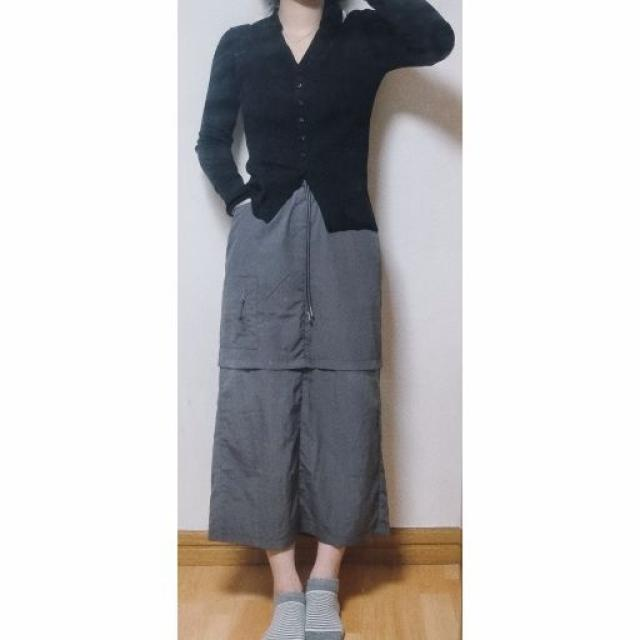cardigan: (195, 0, 454, 235)
skirt: (208, 181, 393, 547)
